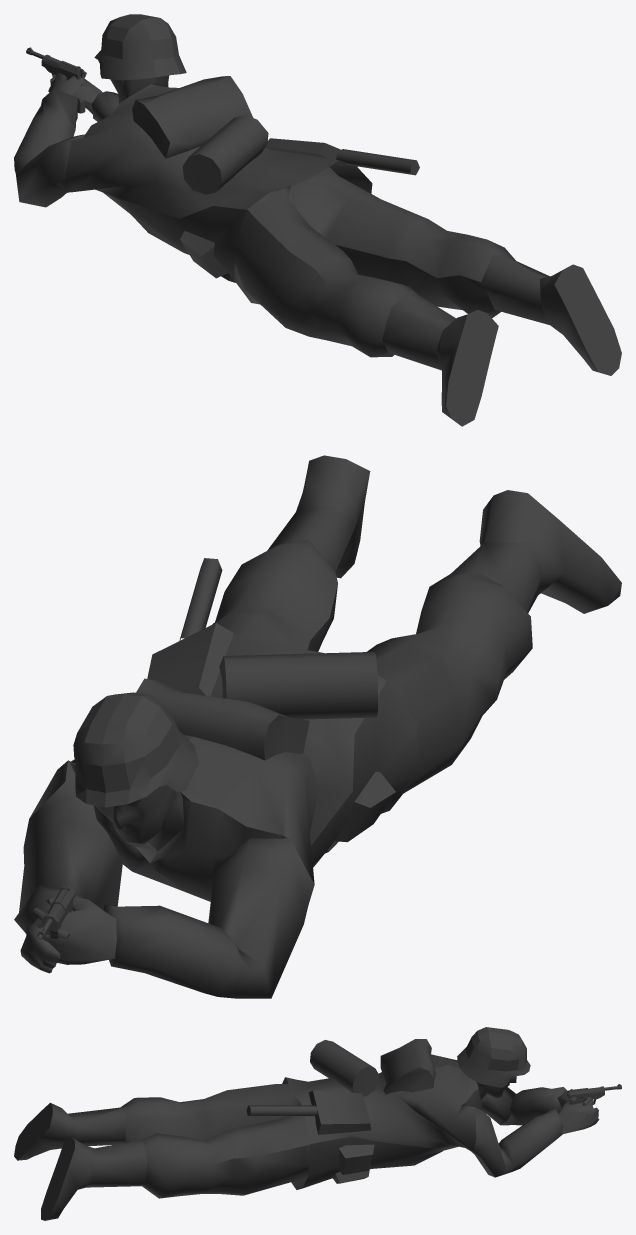
The model's file is de_pistola_prono.glb.
3 views of the same model, one above another, from view 1: azimuth 30°, elevation 25°; view 2: azimuth 150°, elevation 25°; view 3: azimuth 270°, elevation 25° (orthographic). The views are drawn at different scales.
Visible parts, largest first — view 1: SketchUp.005_ID113_4; view 2: SketchUp.005_ID113_4; view 3: SketchUp.005_ID113_4.
Part boxes in pixels (x1,y1,x2,y2): SketchUp.005_ID113_4: [14, 14, 621, 426]; SketchUp.005_ID113_4: [14, 455, 621, 998]; SketchUp.005_ID113_4: [14, 1027, 621, 1220].
Bounding box in the file's own units: 0.2482 × 0.1569 × 0.605.
1 material, 1 textured.
